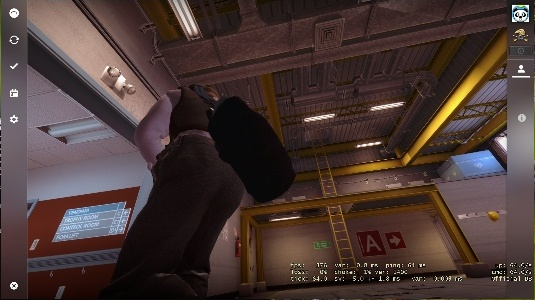body: (125, 81, 237, 300)
